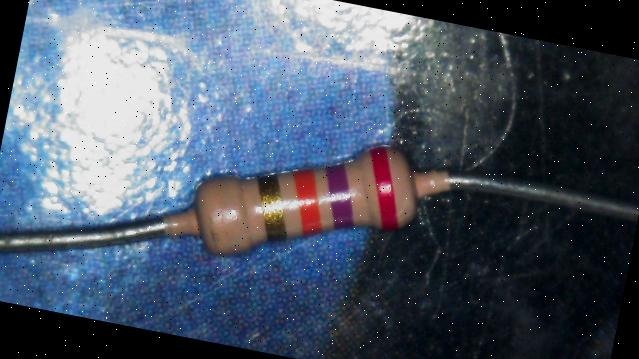gold: (248, 171, 297, 240)
orange: (282, 166, 333, 237)
red: (356, 144, 412, 231)
resistor: (156, 123, 453, 274)
violet: (315, 160, 364, 230)
